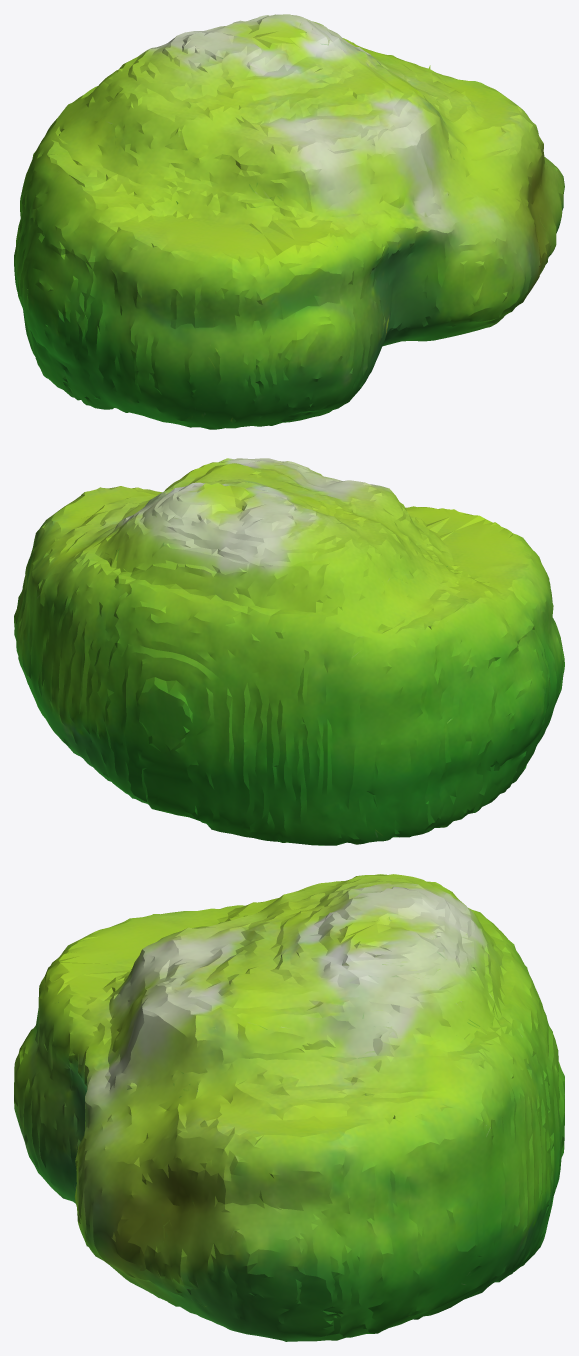
File: rock.glb
The picture shows the model from 3 angles, top to bottom: view 1: azimuth 30°, elevation 25°; view 2: azimuth 150°, elevation 25°; view 3: azimuth 270°, elevation 25°; orthographic projection. The views are drawn at different scales.
Parts seen in each view (by area): view 1: UnderwaterRock; view 2: UnderwaterRock; view 3: UnderwaterRock.
Part boxes in pixels (left/top/right/bottom): UnderwaterRock: left=14, top=14, right=564, bottom=429; UnderwaterRock: left=14, top=458, right=564, bottom=845; UnderwaterRock: left=14, top=874, right=564, bottom=1341.
Size of the model in its own units: 1.89 by 0.9991 by 1.51.
1 material, 1 textured.
